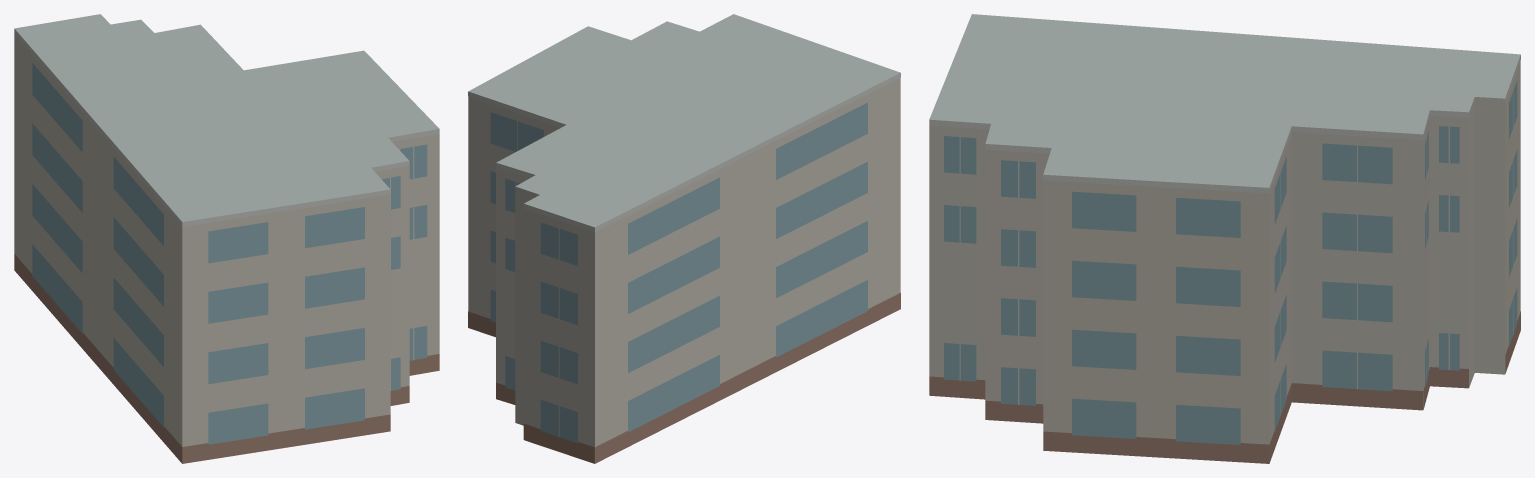
The model's file is survey-upis-32754913.glb.
3 renders of one model, left to right at view 1: azimuth 30°, elevation 25°; view 2: azimuth 150°, elevation 25°; view 3: azimuth 270°, elevation 25°, orthographic. The views are drawn at different scales.
Visible parts, largest first — view 1: survey-upis-32754913.tmp; view 2: survey-upis-32754913.tmp; view 3: survey-upis-32754913.tmp.
Boxes of the visible parts, x1,y1,x2,y2 form: survey-upis-32754913.tmp: [14, 14, 439, 463]; survey-upis-32754913.tmp: [468, 14, 900, 463]; survey-upis-32754913.tmp: [929, 14, 1520, 463].
Bounding box in the file's own units: 15.95 × 11.8 × 22.93.
